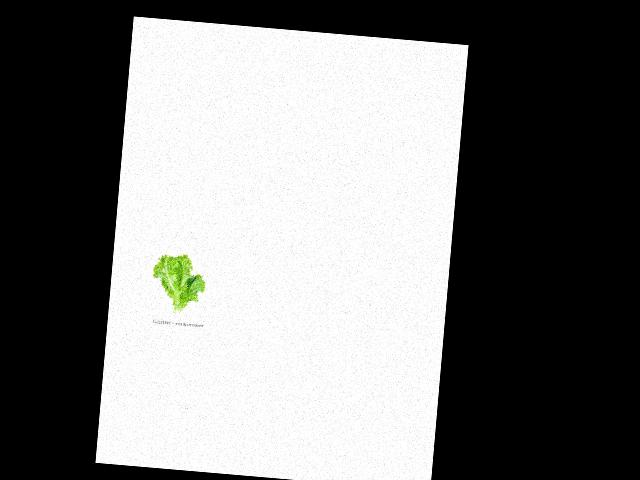lettuce: (149, 250, 209, 319)
